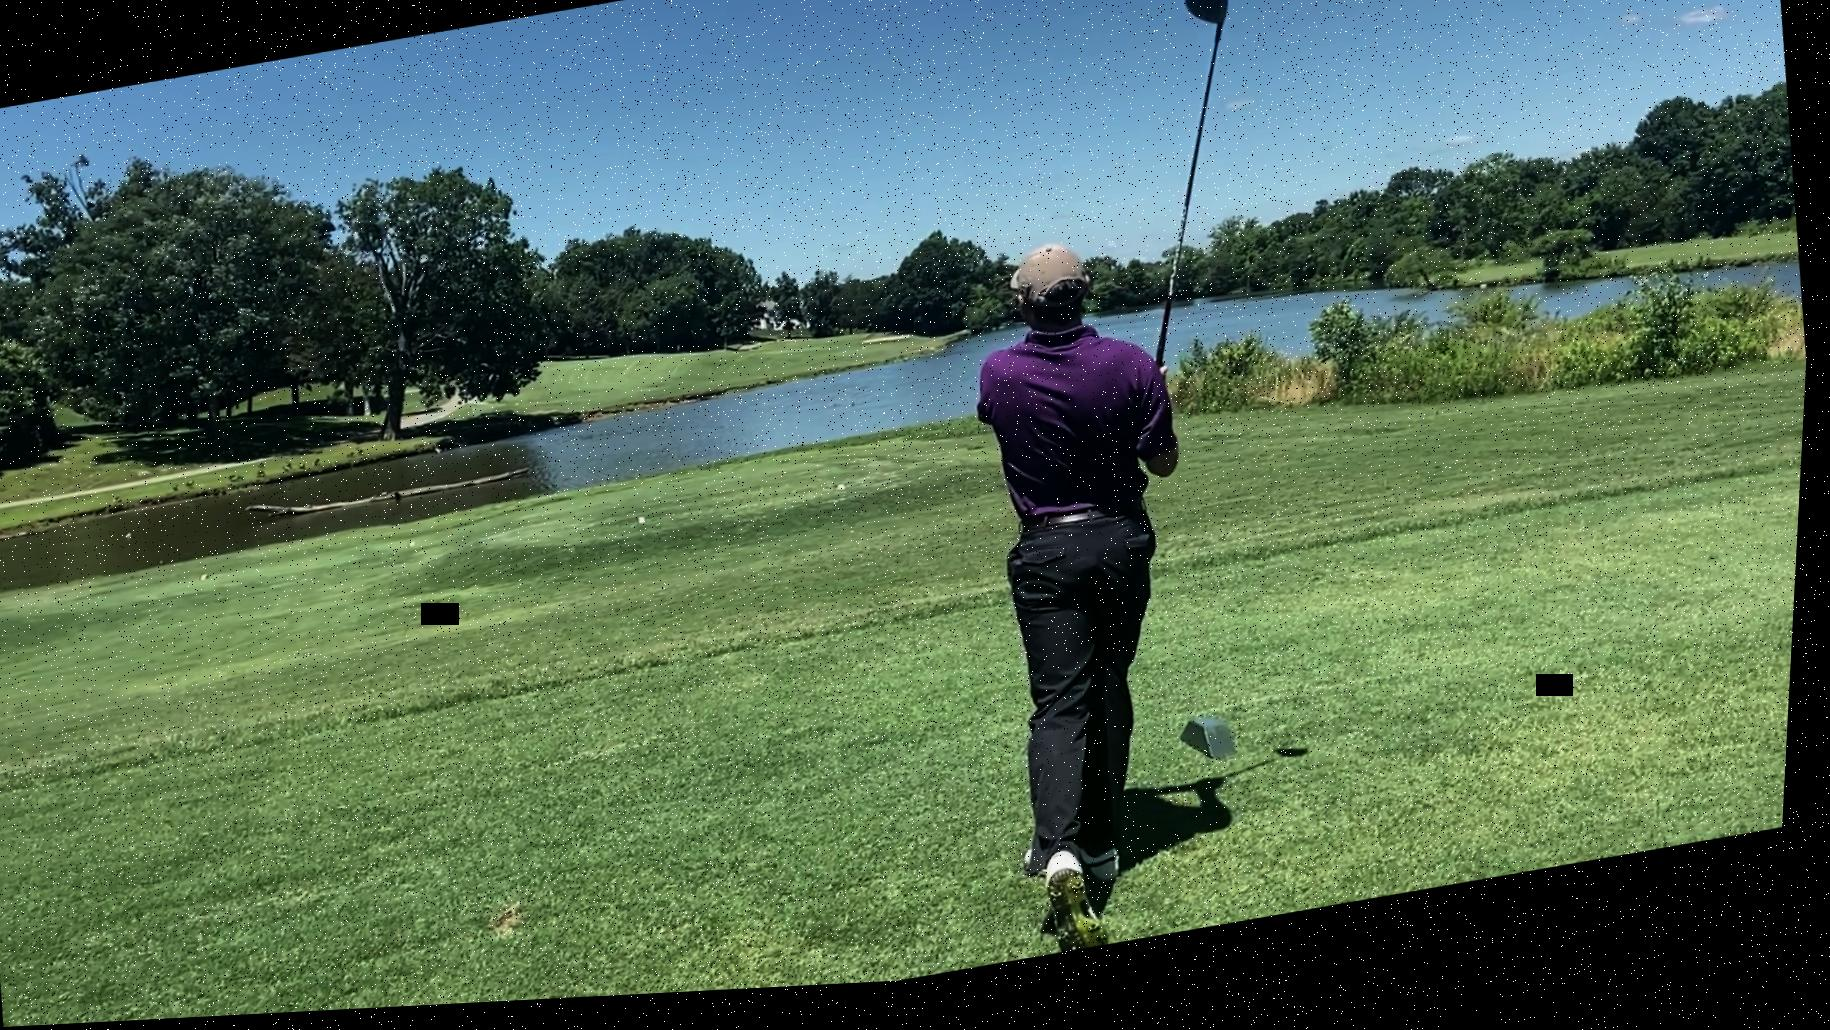ClubHead: (1174, 0, 1241, 54)
